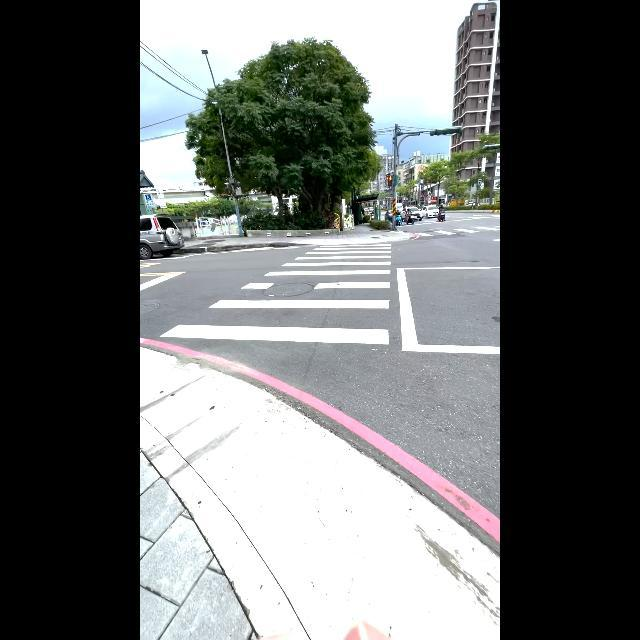sidewalk: (150, 243, 395, 364)
